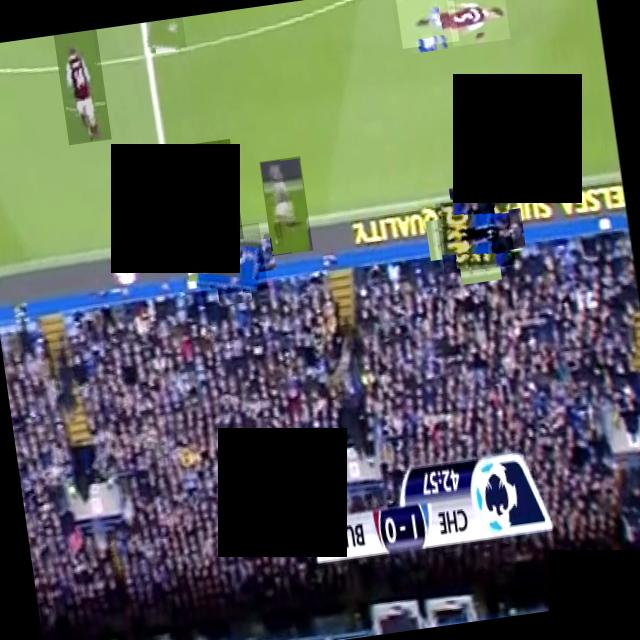referee: (434, 193, 515, 273), (144, 16, 186, 52)
soccer-player: (52, 29, 110, 144), (191, 222, 267, 296), (258, 155, 312, 255), (193, 138, 243, 243), (394, 0, 458, 48), (444, 0, 509, 46)
